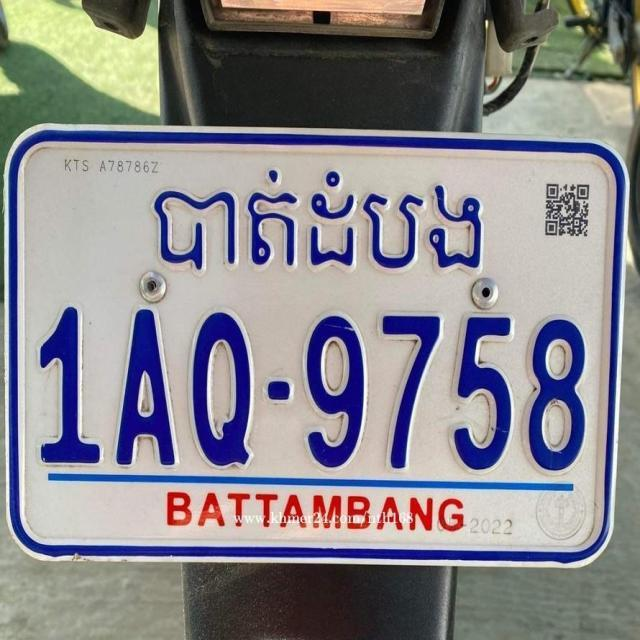Battambang: (145, 167, 489, 294)
